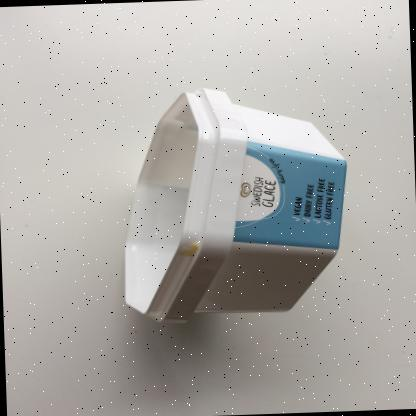Spread tub: (125, 88, 347, 324)
